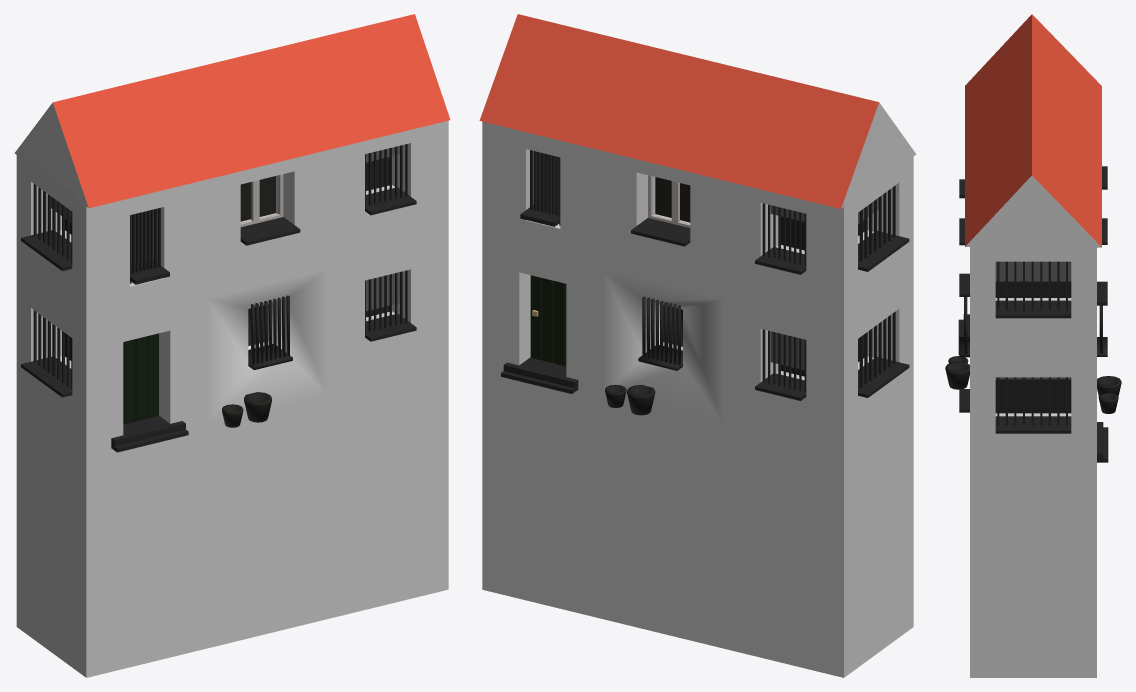
The model's file is casa procedural_relleno_Con sotano_5.fbx.
3 views of the same model, side by side, from view 1: azimuth 30°, elevation 25°; view 2: azimuth 150°, elevation 25°; view 3: azimuth 270°, elevation 25° (orthographic). The views are drawn at different scales.
Visible parts, largest first — view 1: Procedural_Building_straight.001; view 2: Procedural_Building_straight.001; view 3: Procedural_Building_straight.001.
Part boxes in pixels (<box>): Procedural_Building_straight.001: <box>14,14,450,677</box>; Procedural_Building_straight.001: <box>479,14,916,677</box>; Procedural_Building_straight.001: <box>945,14,1121,677</box>.
Size of the model in its own units: 316 by 436 by 138.
